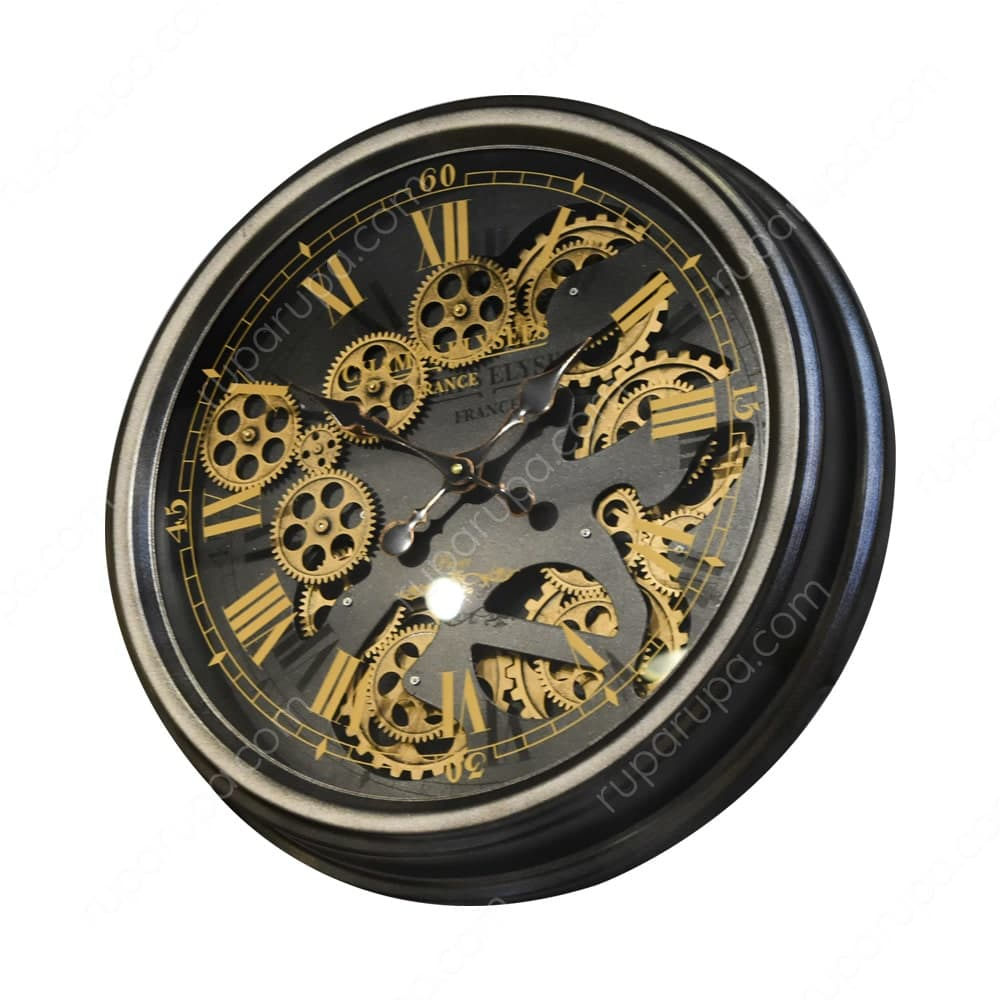jam dinding: (105, 85, 929, 910)
